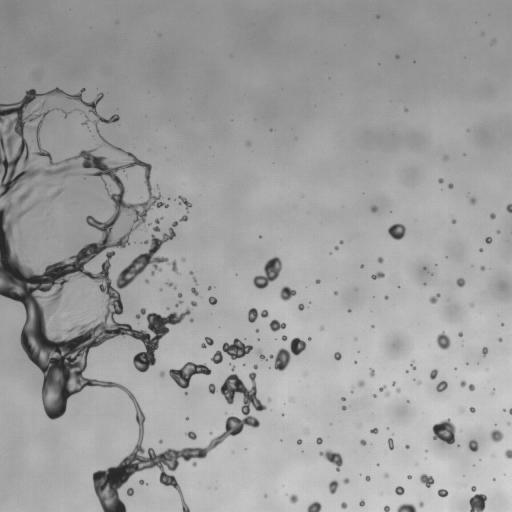droplet: (168, 362, 211, 388), (432, 419, 455, 444), (469, 493, 487, 511), (248, 308, 269, 322), (388, 223, 405, 240), (279, 286, 296, 301), (436, 332, 450, 349), (269, 319, 286, 331), (420, 474, 434, 487), (490, 429, 503, 442), (306, 501, 321, 511), (328, 480, 338, 494), (201, 337, 213, 348), (436, 380, 447, 391), (468, 439, 478, 451), (429, 293, 440, 303), (379, 385, 389, 396), (372, 271, 384, 279), (429, 369, 438, 379), (208, 383, 216, 394), (185, 431, 196, 439), (437, 489, 448, 497), (395, 486, 404, 495), (289, 494, 298, 503), (456, 278, 465, 286), (208, 296, 217, 304), (387, 438, 393, 450), (504, 449, 511, 458), (191, 287, 198, 295), (334, 352, 341, 360), (410, 361, 416, 370), (469, 197, 476, 204), (485, 236, 492, 243), (358, 380, 365, 387), (468, 384, 475, 391), (482, 347, 487, 356), (190, 301, 197, 307), (460, 380, 466, 387), (316, 437, 322, 444), (127, 488, 133, 495), (370, 428, 378, 433), (371, 206, 377, 212), (377, 257, 383, 263), (298, 304, 304, 310), (360, 439, 366, 445), (341, 502, 347, 508), (139, 479, 146, 484), (359, 499, 364, 506), (370, 369, 374, 377), (490, 213, 495, 219), (281, 335, 287, 340), (469, 407, 475, 412), (365, 475, 370, 481), (343, 478, 349, 483), (383, 506, 389, 511), (438, 178, 443, 183), (448, 183, 453, 188), (289, 397, 294, 402), (341, 405, 346, 410), (297, 439, 302, 444), (471, 486, 476, 491), (46, 183, 52, 187), (419, 501, 423, 507), (444, 155, 448, 160), (451, 219, 456, 223), (480, 266, 485, 270), (315, 279, 320, 283), (178, 292, 182, 297), (458, 331, 462, 336), (498, 337, 502, 342), (231, 365, 235, 370), (253, 364, 257, 369), (160, 371, 164, 376), (416, 380, 421, 384), (395, 388, 400, 392), (246, 141, 250, 145), (339, 240, 343, 244), (334, 246, 338, 250), (334, 291, 338, 295), (384, 295, 388, 299), (189, 318, 193, 322), (341, 397, 345, 401), (460, 408, 464, 412), (405, 444, 409, 448), (192, 462, 196, 466), (384, 473, 388, 477), (407, 475, 411, 479), (256, 328, 259, 332), (159, 439, 162, 443), (492, 40, 495, 43), (395, 55, 398, 58), (479, 248, 482, 251), (208, 286, 211, 289), (348, 309, 351, 312), (308, 337, 311, 340), (392, 382, 395, 385), (373, 394, 376, 397), (306, 430, 309, 433), (376, 15, 379, 17), (497, 230, 499, 233), (259, 235, 261, 238), (182, 258, 184, 261), (360, 265, 363, 267), (145, 280, 148, 282), (470, 303, 472, 306), (320, 327, 323, 329), (354, 361, 357, 363), (350, 390, 353, 392), (491, 391, 493, 394), (267, 399, 270, 401), (503, 409, 506, 411), (186, 417, 188, 420), (405, 109, 407, 111), (423, 283, 425, 285), (185, 392, 187, 394), (507, 423, 509, 425), (358, 425, 360, 427), (493, 478, 495, 480), (264, 495, 266, 497)
ligament: (0, 92, 259, 511), (257, 337, 306, 371), (211, 338, 252, 364), (253, 256, 282, 289), (14, 200, 39, 221), (319, 449, 342, 471), (179, 196, 191, 211), (396, 503, 416, 511), (49, 188, 62, 200), (153, 217, 161, 231), (189, 271, 197, 283), (166, 281, 176, 288), (60, 109, 68, 116), (506, 203, 511, 214), (175, 301, 182, 307), (509, 408, 511, 414)
